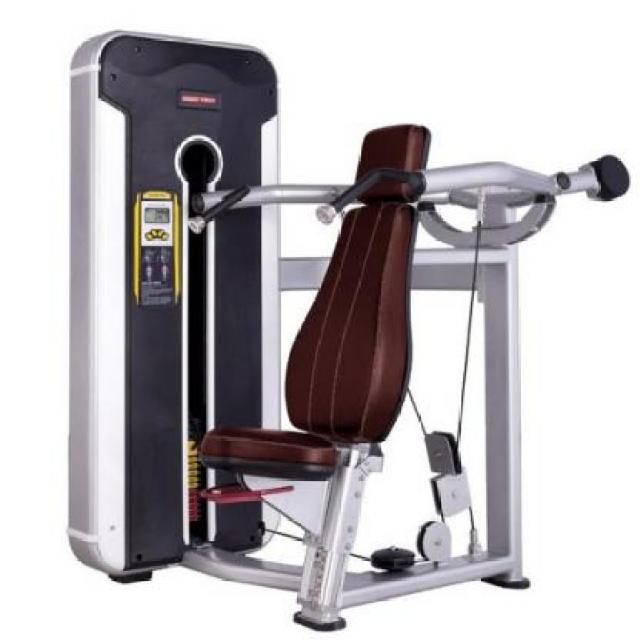shoulder press machine: (71, 29, 631, 628)
